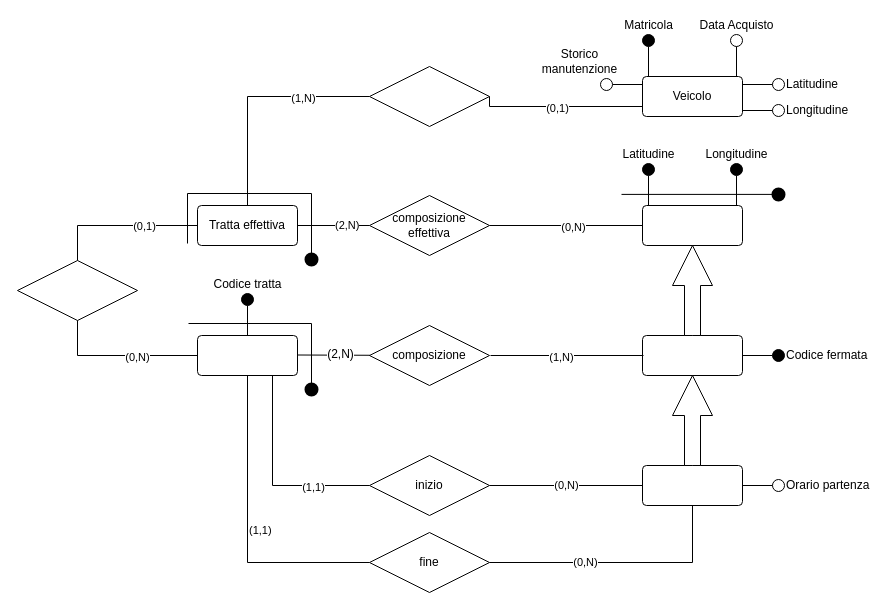
This 887x610 diagram has some shape labels left out. The shapes that lost their labels are listed below. From the top down, each one's box as (x1, y1, x2, y2) in pixels, then its label:
(368, 66, 490, 126): copre
(642, 204, 742, 246): Waypoint
(16, 260, 138, 320): realizzazione
(196, 334, 298, 376): Tratta
(642, 334, 742, 376): Feramata
(642, 464, 742, 506): Capolinea
